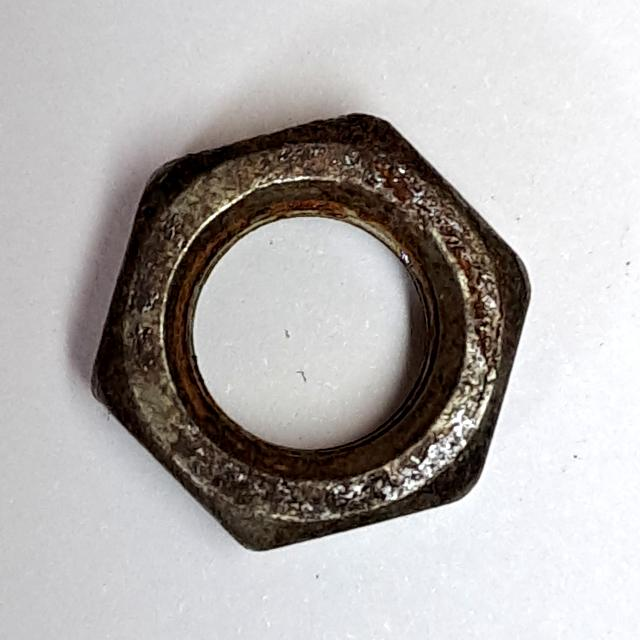Rust: (81, 100, 538, 565)
